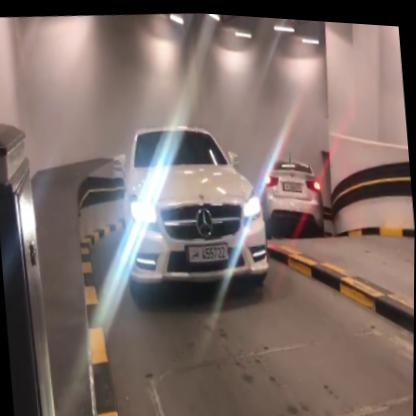np: (183, 234, 231, 267), (281, 173, 308, 192)
